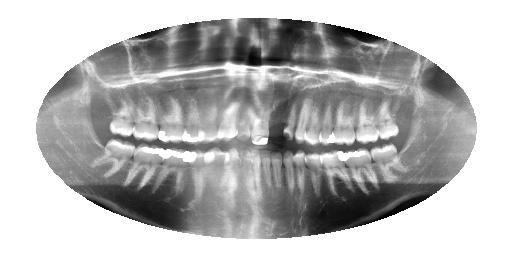Cavity: (283, 96, 298, 142)
